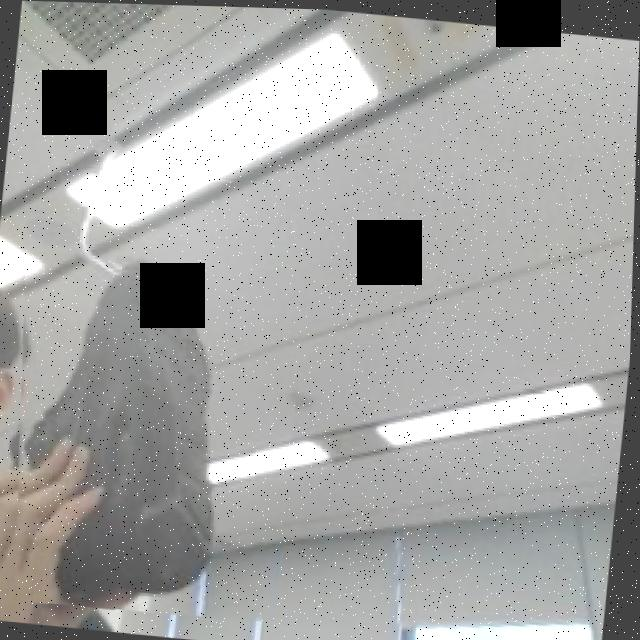shoe: (0, 215, 313, 625)
